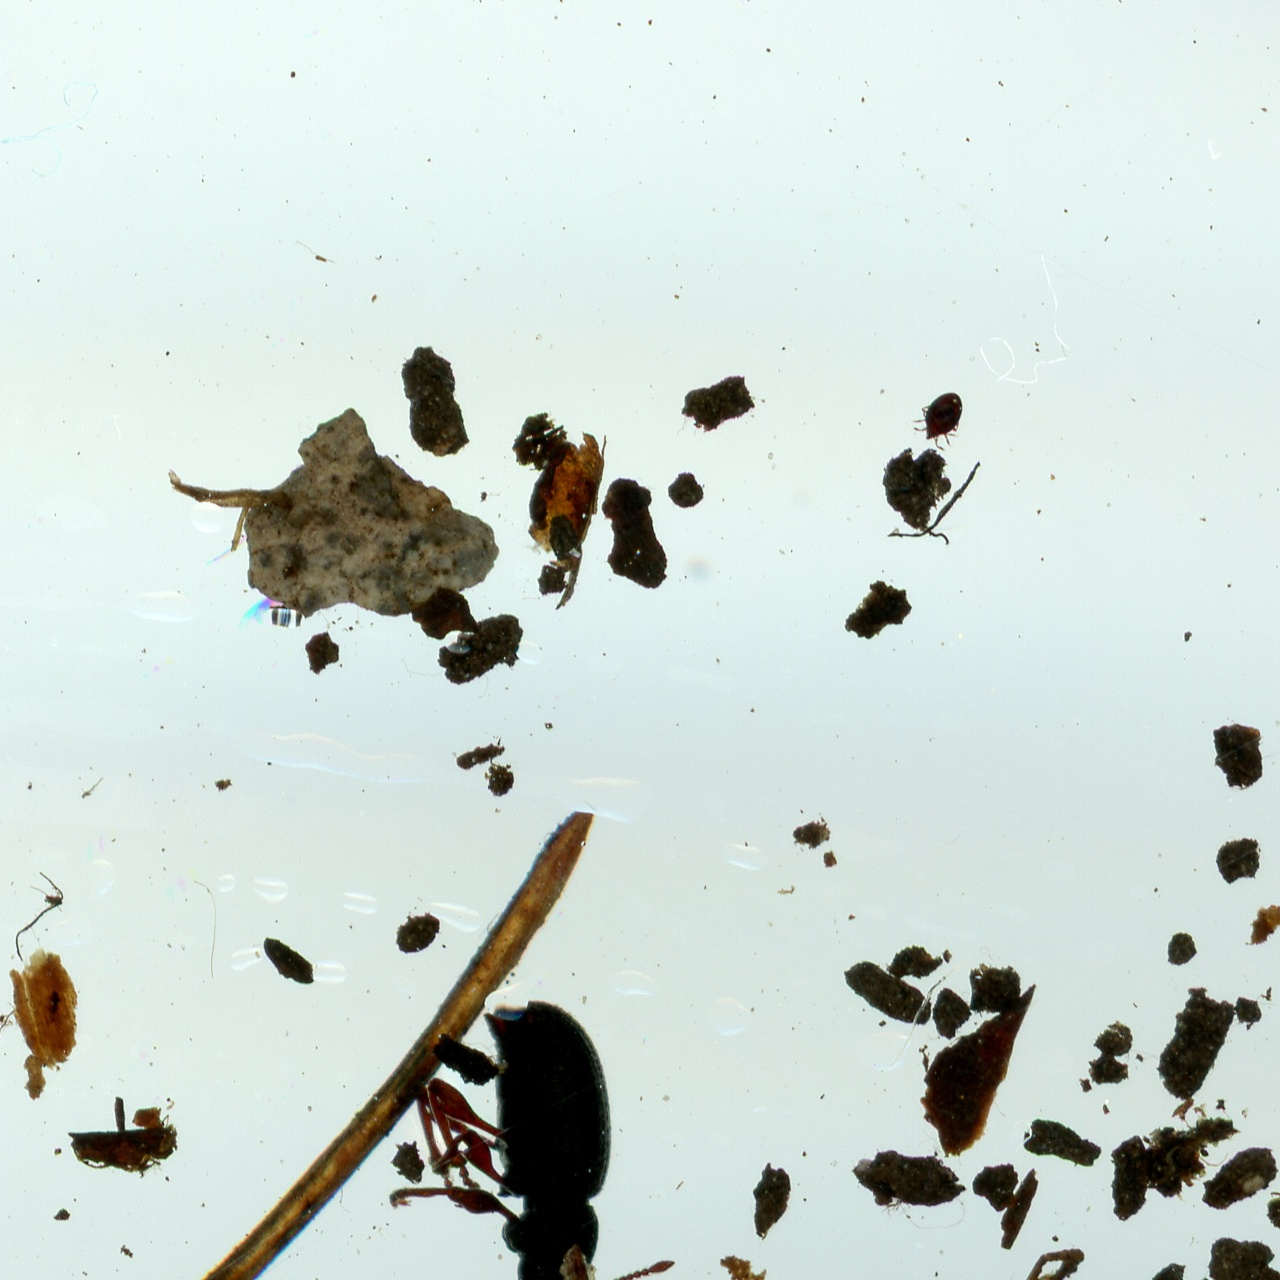arthropod: (339, 967, 697, 1280), (910, 388, 967, 454)
